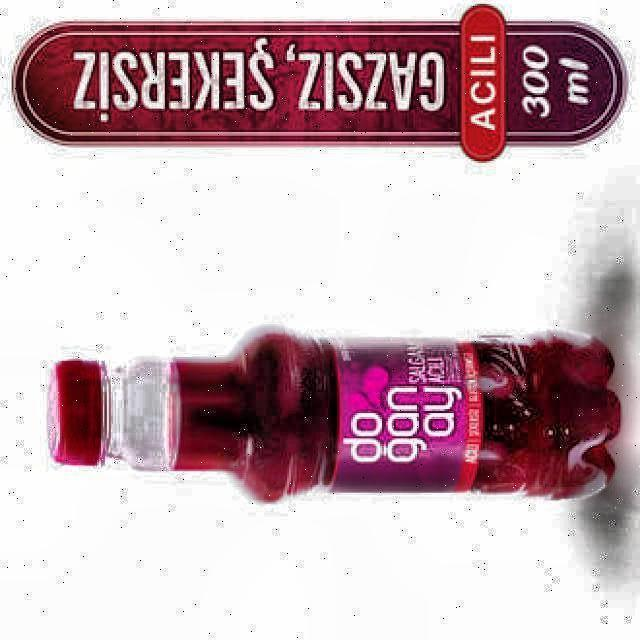plastic: (50, 329, 621, 501)
